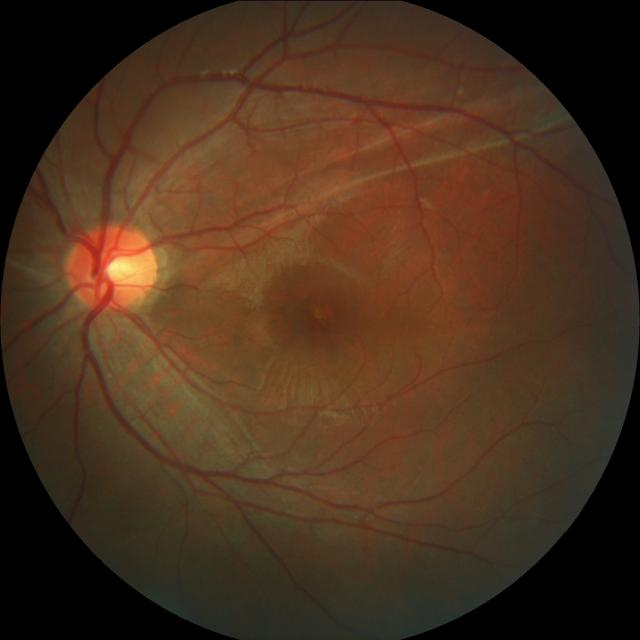OC: (89, 247, 136, 289)
OD: (64, 222, 156, 312)
